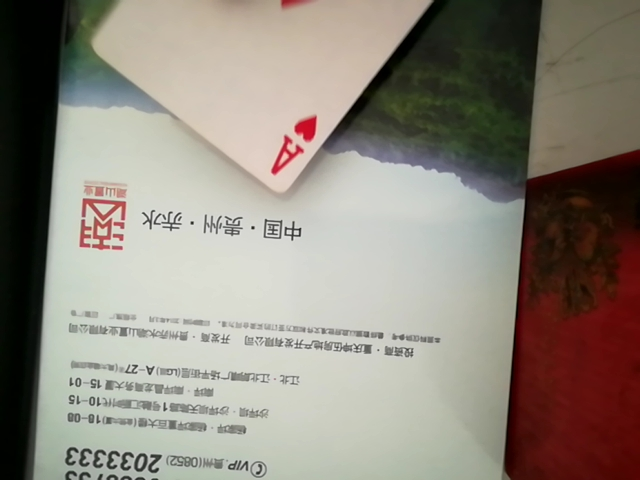hx a: (74, 0, 482, 202)
